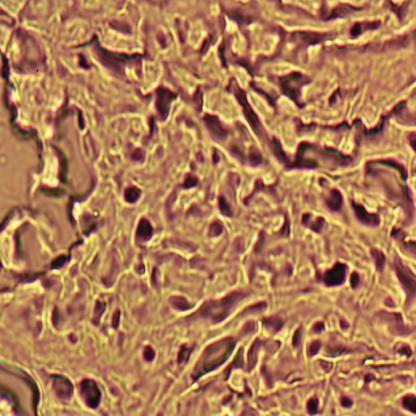Stage I: (56, 9, 416, 416)
